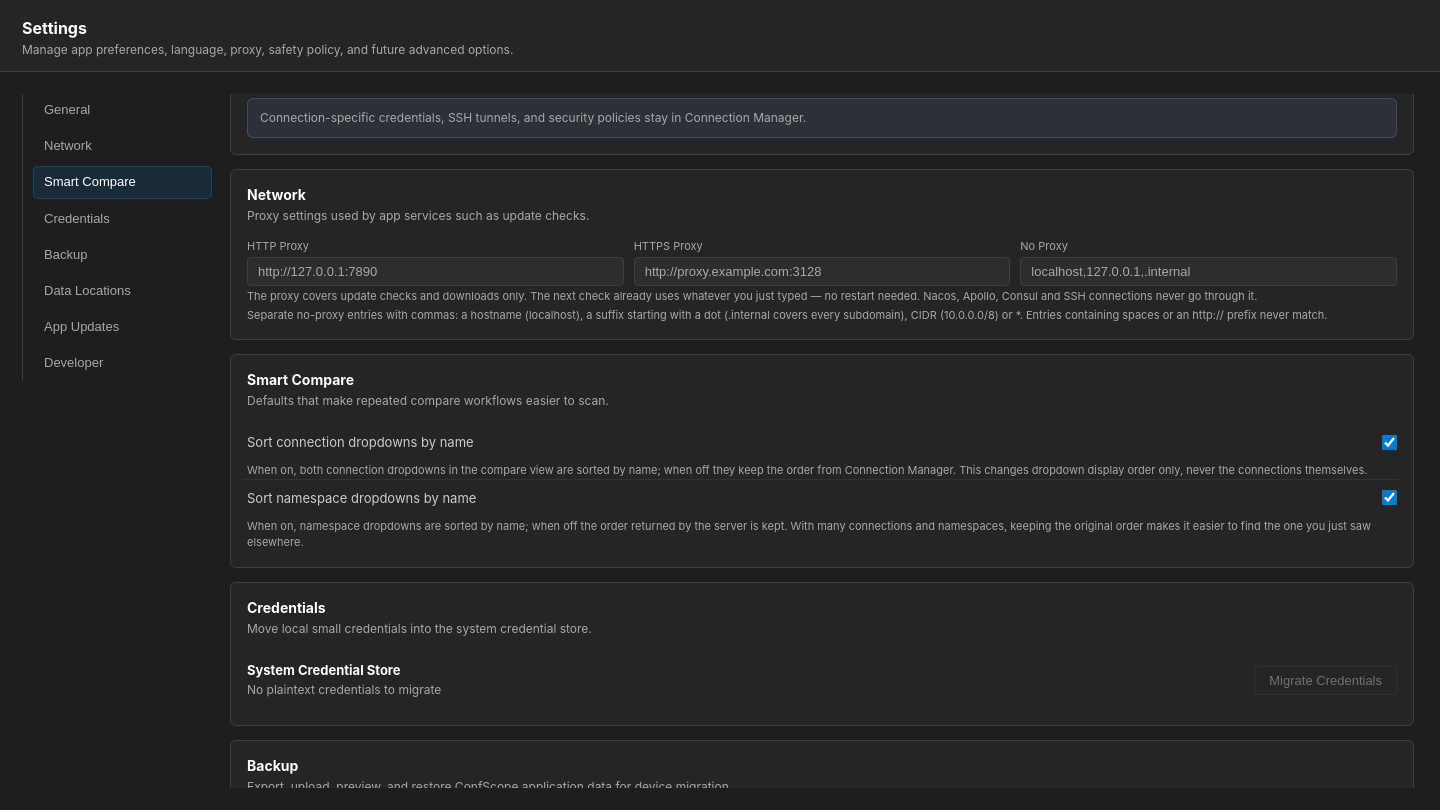
Scenario: SettingsView › clears the saved indicator timeout when unmounted
(page scrolled)
Click the checkbox labelled "Sort connection dropdowns by name": (1390, 442) [1382,434,1397,450]
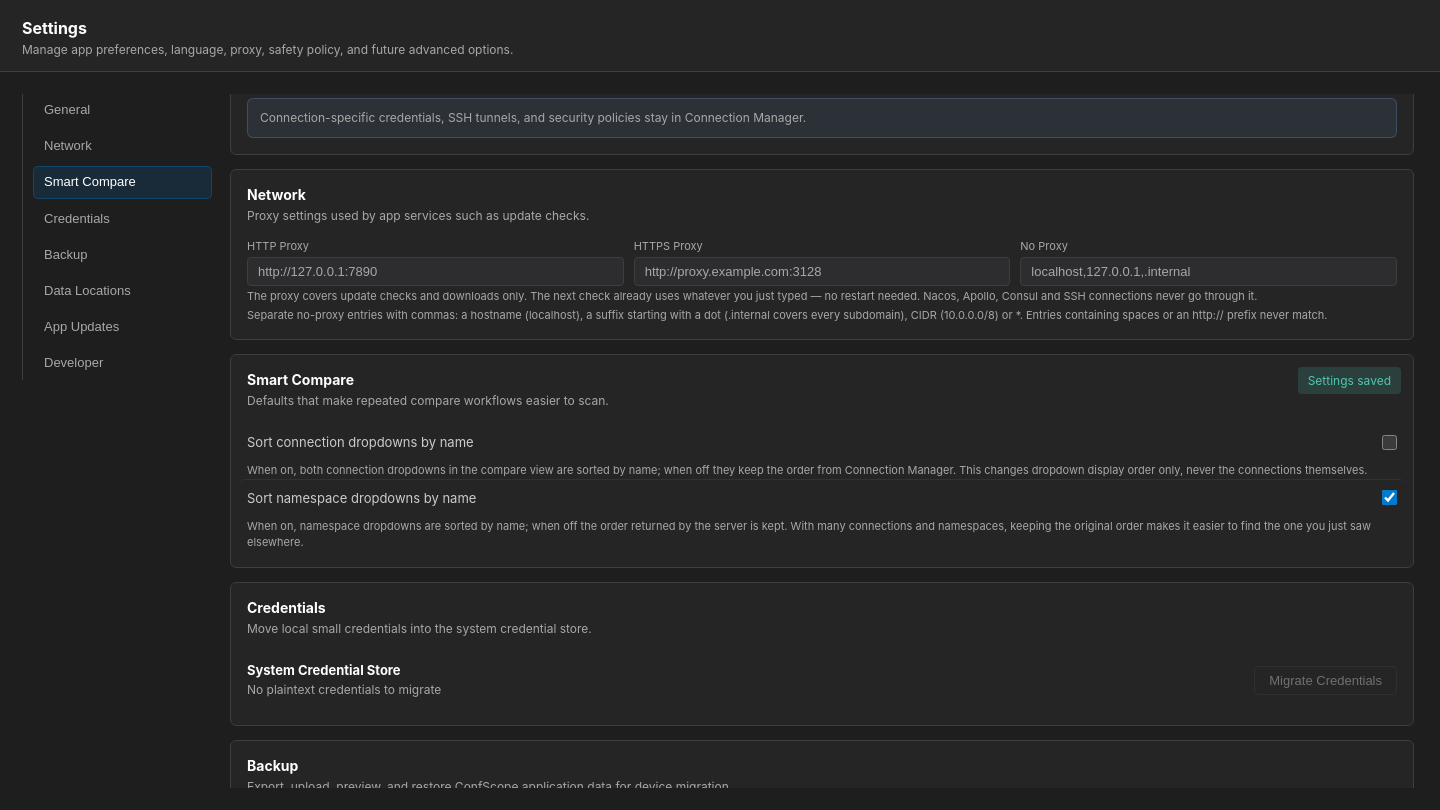
Check: the text "Settings saved" is shown, box [1298,367,1401,394]
